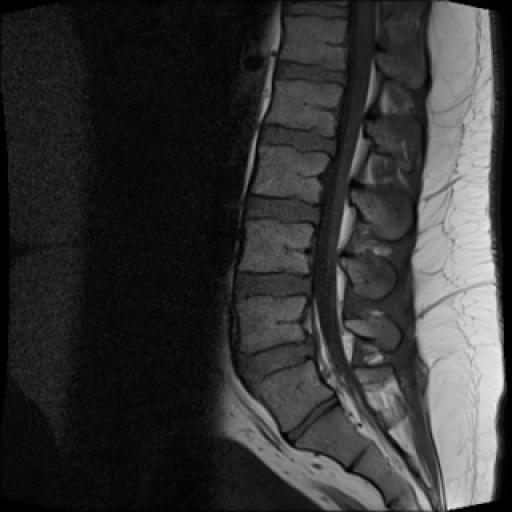L1: (266, 81, 343, 137)
L2: (252, 146, 330, 203)
L3: (240, 222, 312, 274)
L4: (237, 296, 307, 354)
L5: (257, 360, 335, 432)
S1: (295, 406, 371, 468)
